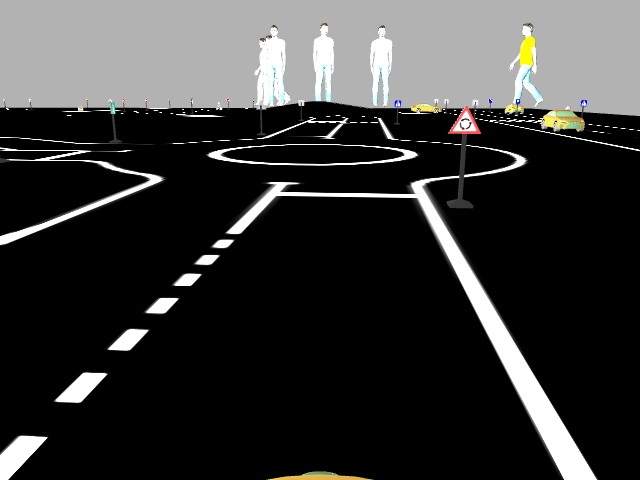Roundabout: (446, 105, 481, 135)
